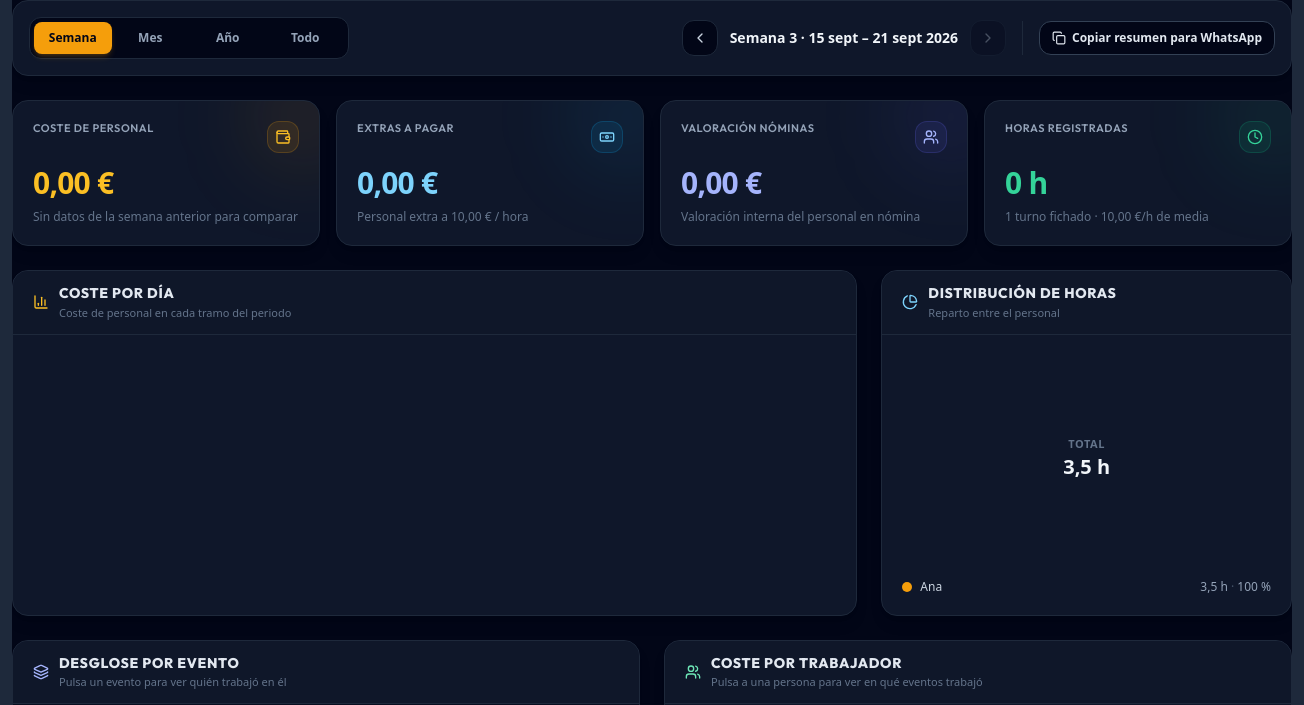
Test: FinancialSummaryTab — desglose y comparación › sin datos del periodo anterior no inventa una comparación
Expected: the text "Sin datos de la semana anterior para comparar" is shown, [33, 208, 298, 225]
Click the button "Todo".
click(305, 38)  # box [266, 22, 344, 54]
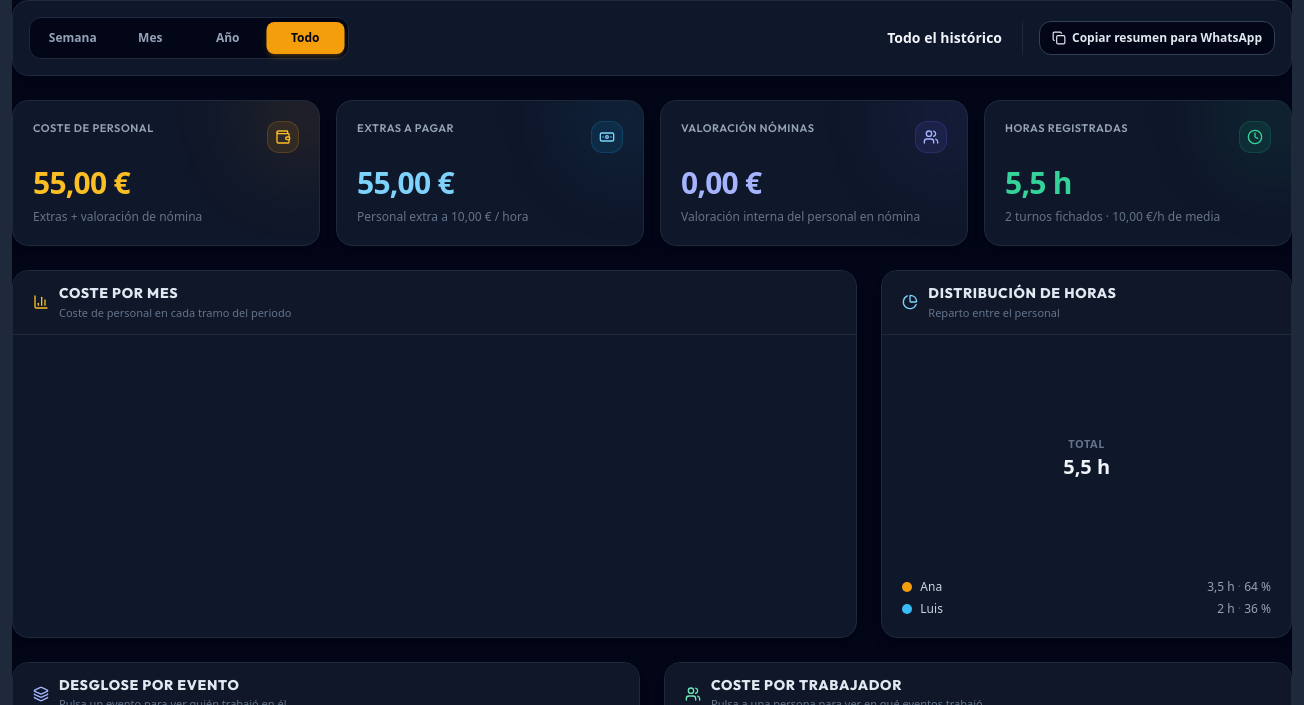
Now the text "Extras + valoración de nómina" is shown, box [33, 208, 202, 225]
